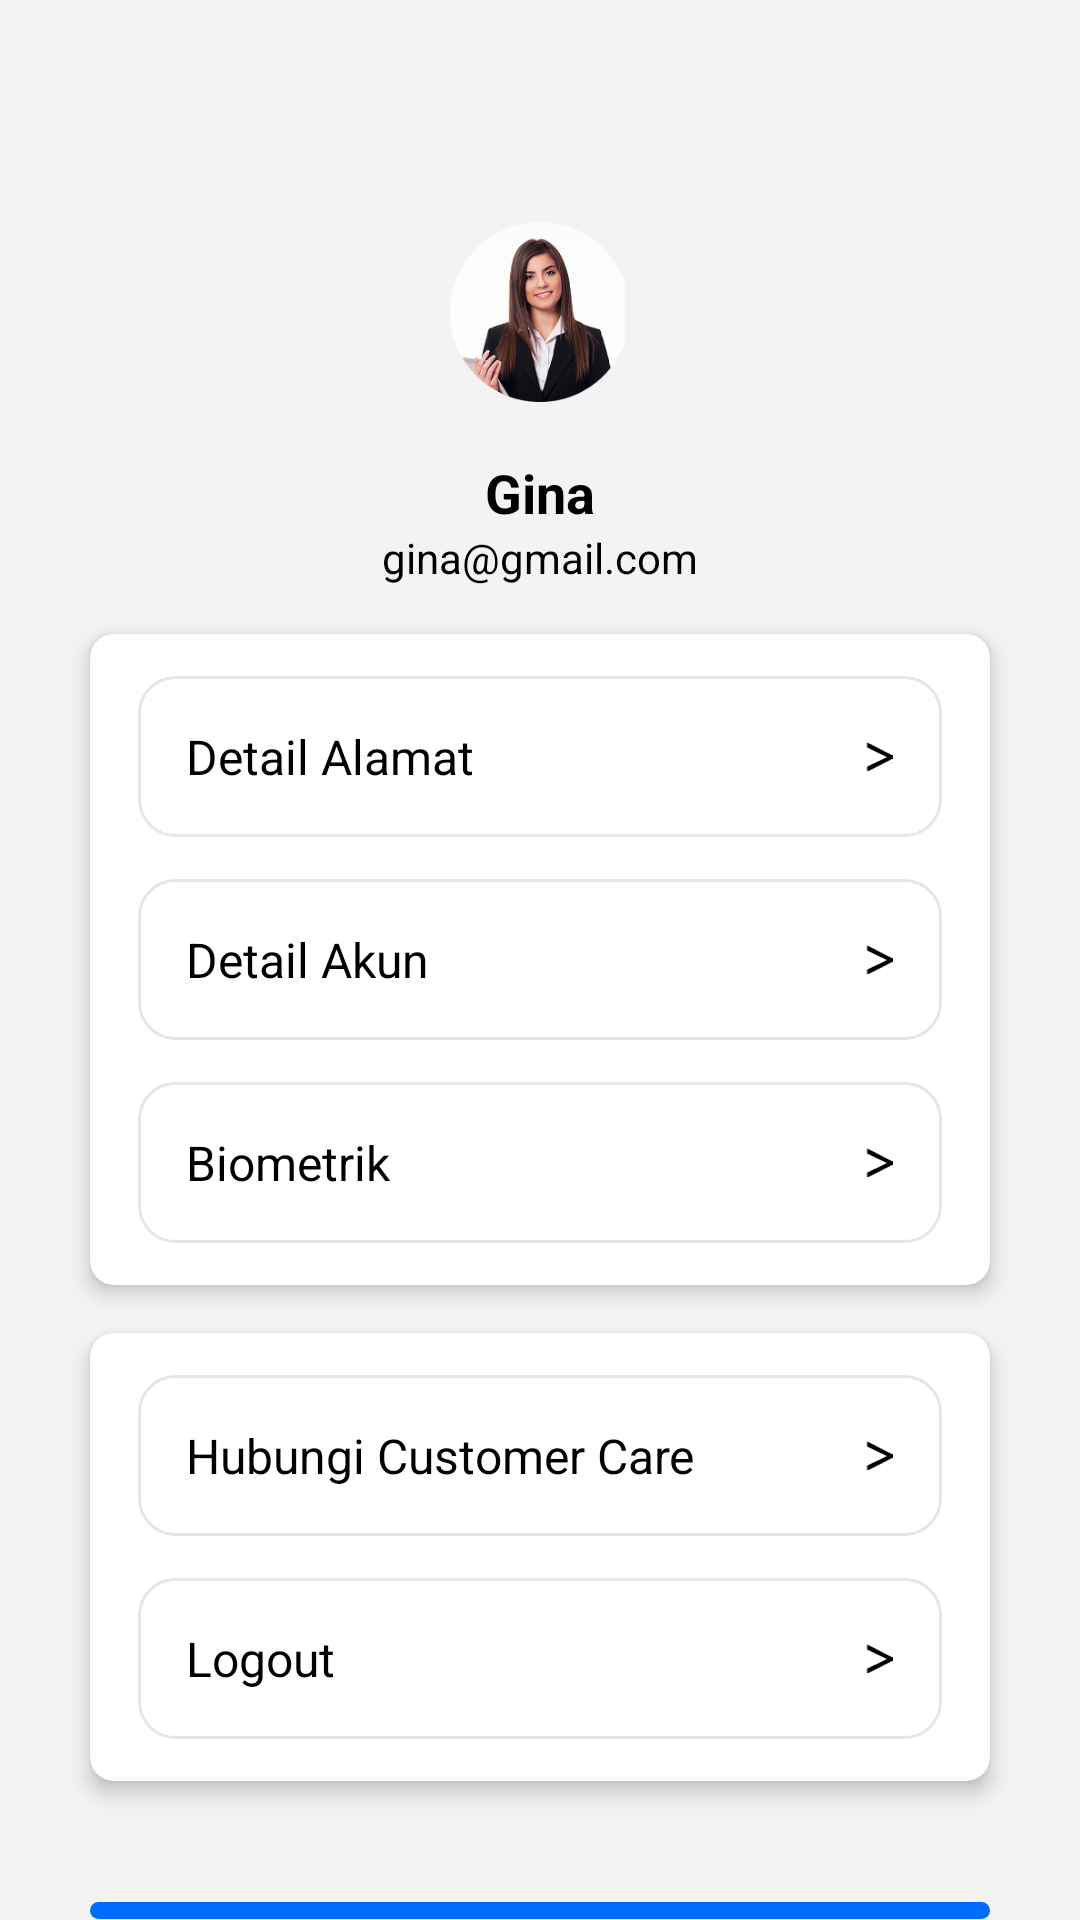

Locate icon controls on the screen. Image size 1080×1920, boxes as (x1, y1, x2, y2).
arrow right: (866, 742, 893, 771), (866, 945, 893, 974), (866, 1148, 893, 1177), (866, 1441, 893, 1470), (866, 1644, 893, 1673)
